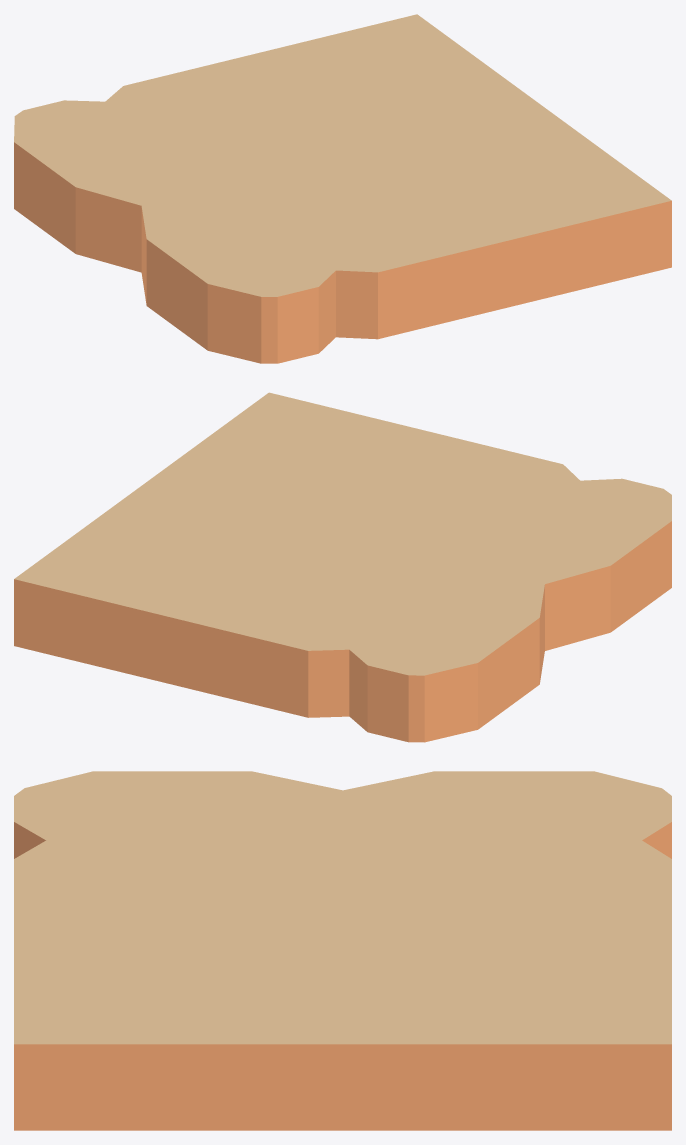
The model's file is toast.fbx.
3 renders of one model, top to bottom at view 1: azimuth 30°, elevation 25°; view 2: azimuth 150°, elevation 25°; view 3: azimuth 270°, elevation 25°, orthographic. The views are drawn at different scales.
Parts seen in each view (by area): view 1: Toast; view 2: Toast; view 3: Toast.
Part boxes in pixels (x1,y1,x2,y2): Toast: (14, 14, 671, 363); Toast: (14, 392, 671, 742); Toast: (14, 771, 671, 1130).
Bounding box in the file's own units: 196 × 28.96 × 200.
